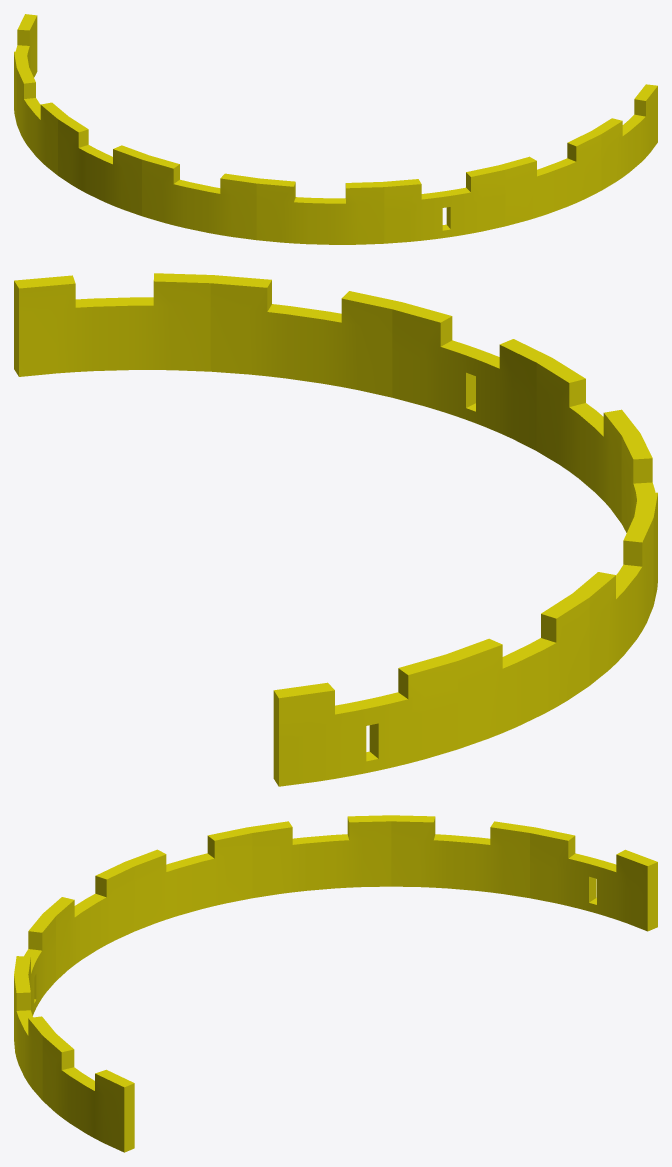
The model's file is Tower_Battlements_01B.fbx.
The picture shows the model from 3 angles, top to bottom: view 1: azimuth 30°, elevation 25°; view 2: azimuth 150°, elevation 25°; view 3: azimuth 270°, elevation 25°; orthographic projection. The views are drawn at different scales.
Parts seen in each view (by area): view 1: Tower_Battlements_01B; view 2: Tower_Battlements_01B; view 3: Tower_Battlements_01B.
Part boxes in pixels (bbox=[...]): Tower_Battlements_01B: bbox=[14, 14, 657, 244]; Tower_Battlements_01B: bbox=[14, 273, 657, 786]; Tower_Battlements_01B: bbox=[14, 815, 657, 1152].
Size of the model in its own units: 1341 by 150 by 1341.
